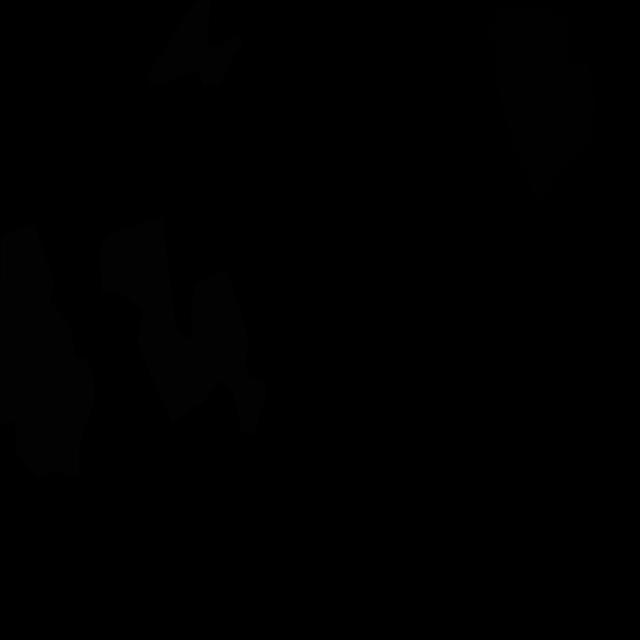cardboard: (100, 217, 267, 435), (0, 223, 95, 479), (146, 0, 242, 87)
rigid_plastic: (485, 6, 596, 207)
